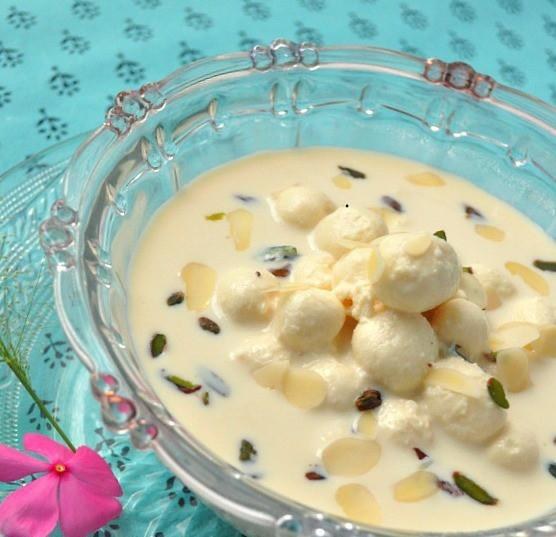RasMalai: (124, 144, 556, 537)
